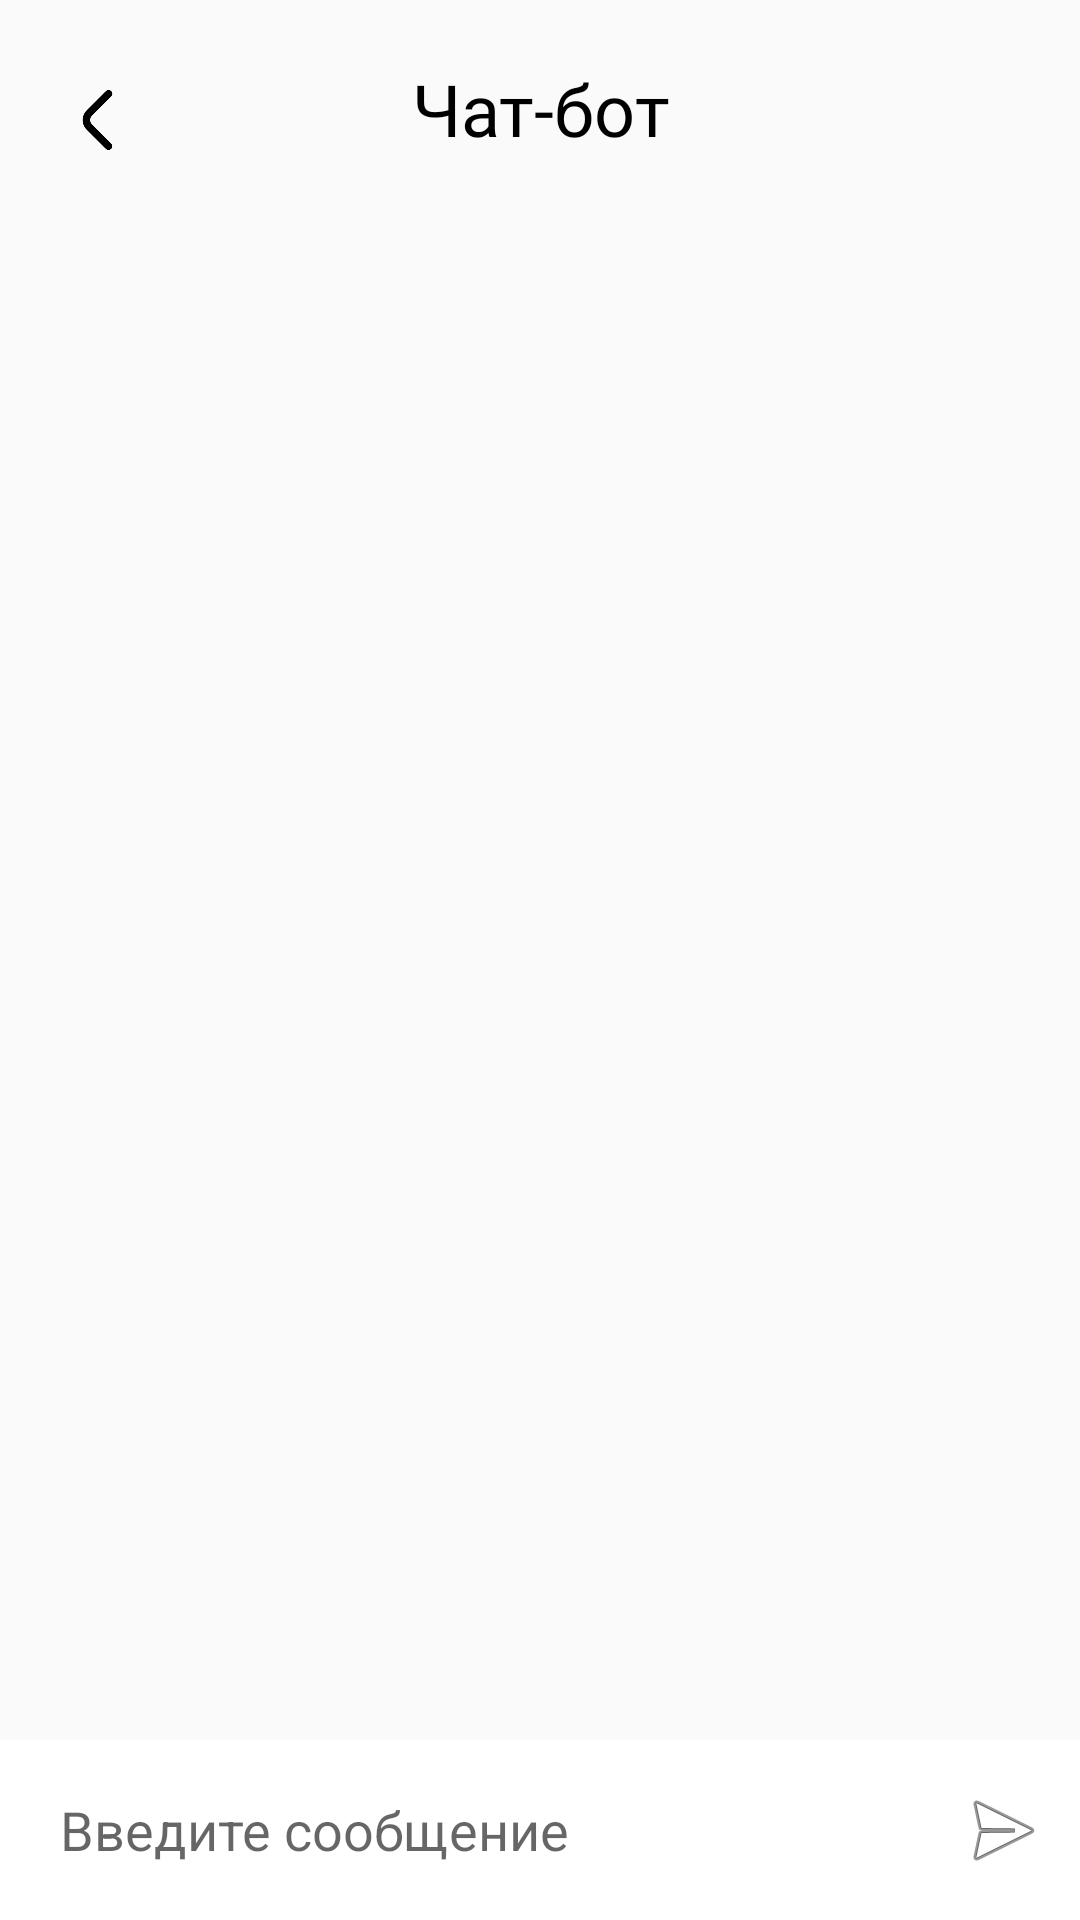

Icons on this 1080px x 1920px Android screen, each with the point to tap as (x,y):
leftarrow: (97,120)
send: (1004,1830)
